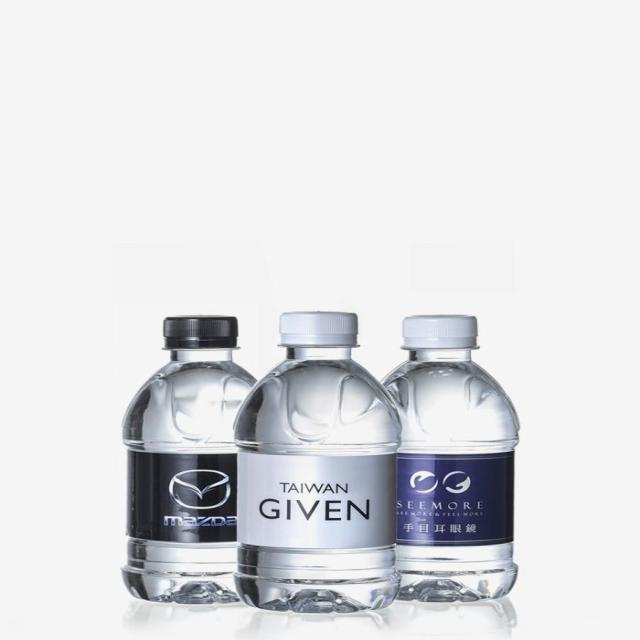bottle: (228, 310, 407, 618), (114, 309, 284, 617), (381, 307, 512, 612)
